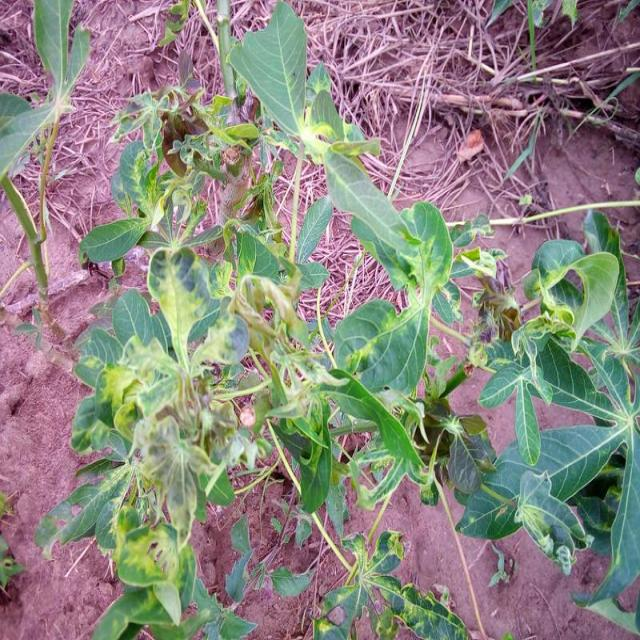cassava leaf: (31, 1, 640, 637), (230, 0, 308, 139)
